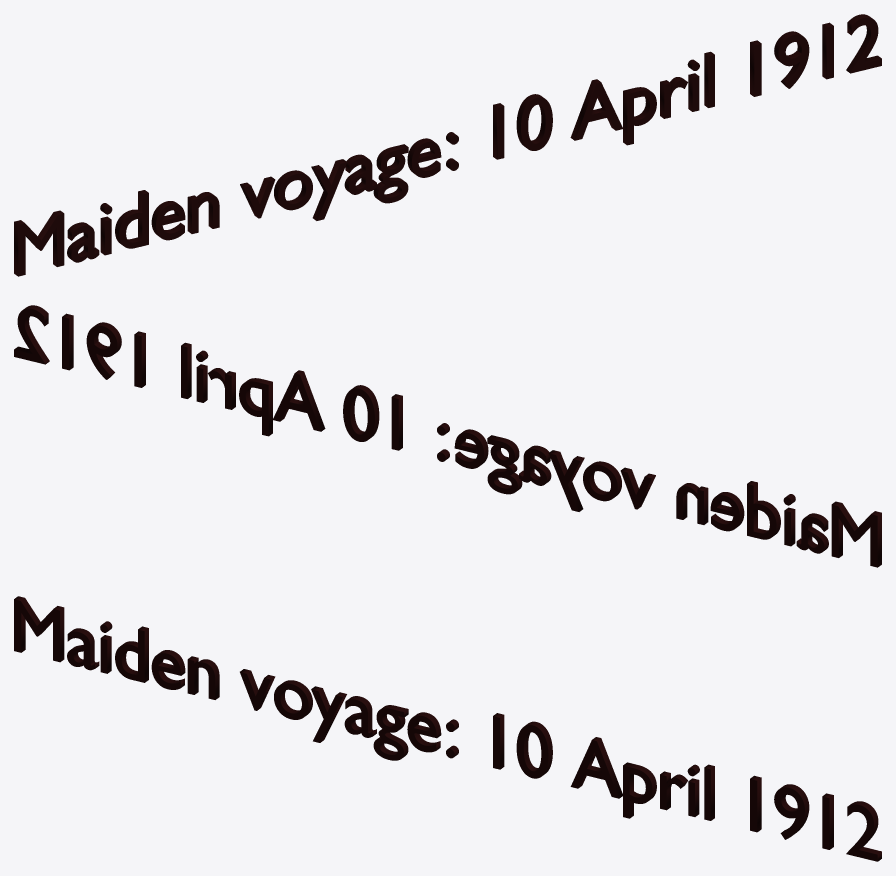
Rendered from text_historical02.glb.
3 views of the same model, one above another, from view 1: azimuth 30°, elevation 25°; view 2: azimuth 150°, elevation 25°; view 3: azimuth 330°, elevation 25° (orthographic).
Visible parts, largest first — view 1: historical02; view 2: historical02; view 3: historical02.
Part boxes in pixels (box(x1,y1,x2,y2)): historical02: box(14, 14, 881, 276); historical02: box(14, 305, 881, 567); historical02: box(14, 596, 881, 861).
Bounding box in the file's own units: 205 × 15.9 × 1.79.
